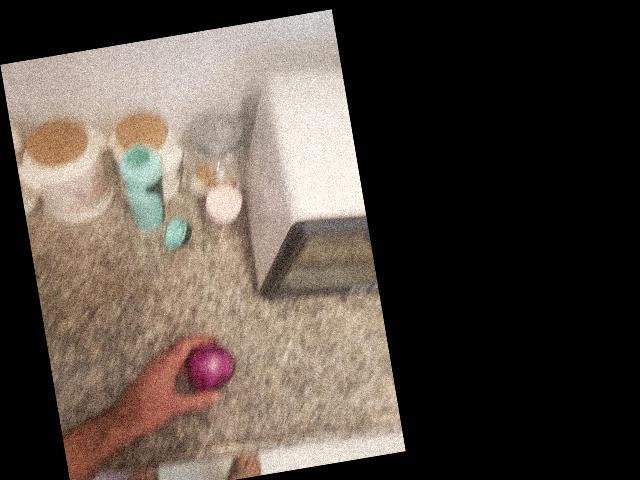onion: (327, 153, 391, 219)
